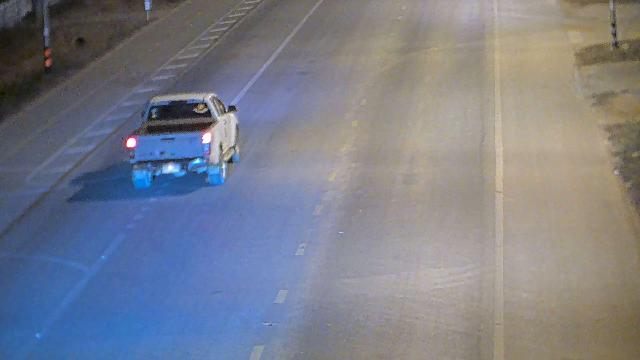pickup-truck: (124, 90, 240, 189)
